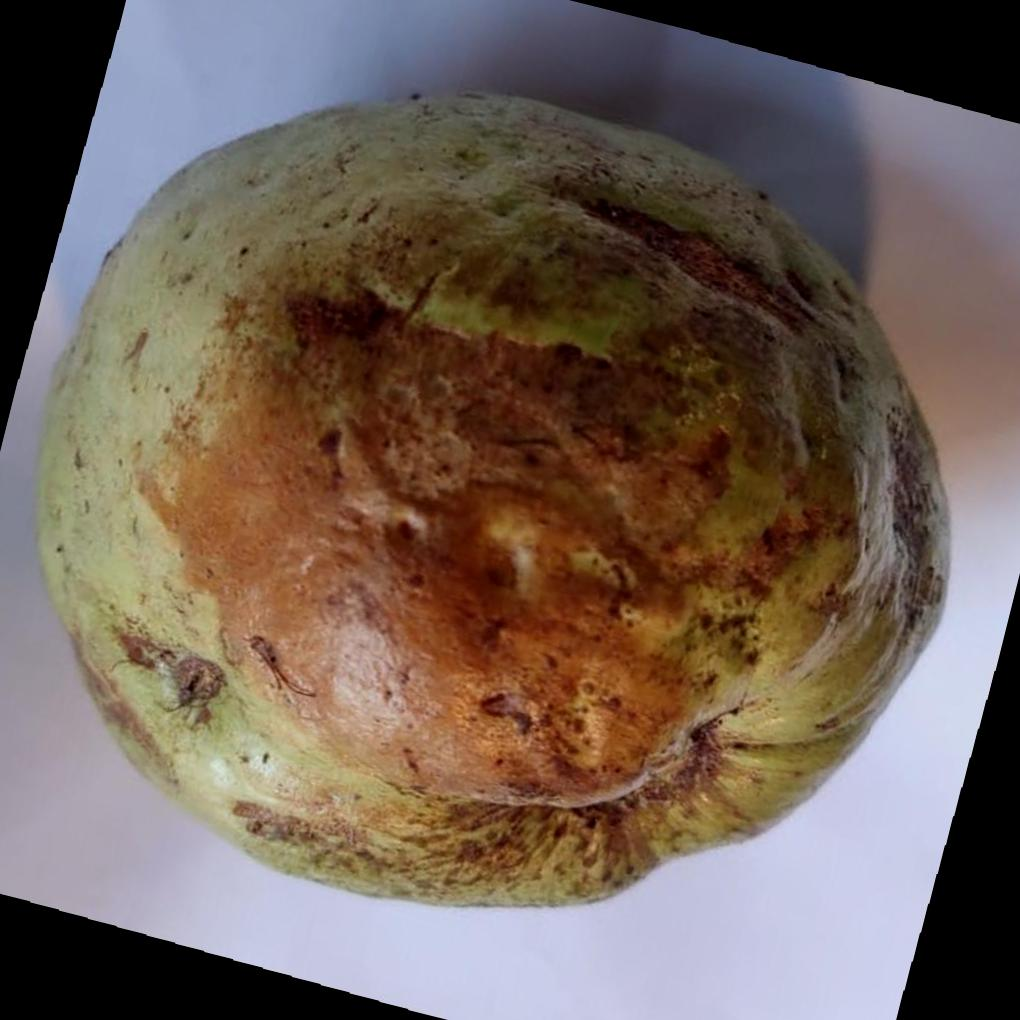FreshOrange: (34, 85, 954, 908)
